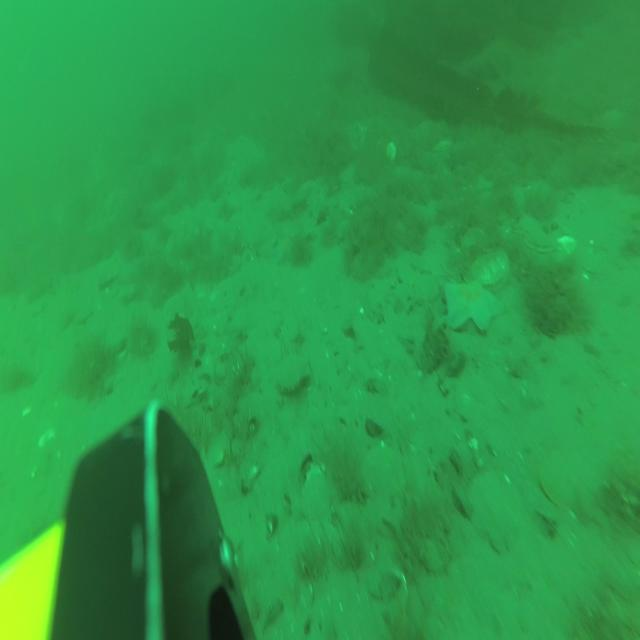scallop: (470, 245, 510, 291), (517, 210, 557, 251), (276, 354, 310, 391), (432, 136, 451, 152), (387, 142, 397, 162)
starfish: (441, 272, 506, 329), (273, 232, 298, 266)
